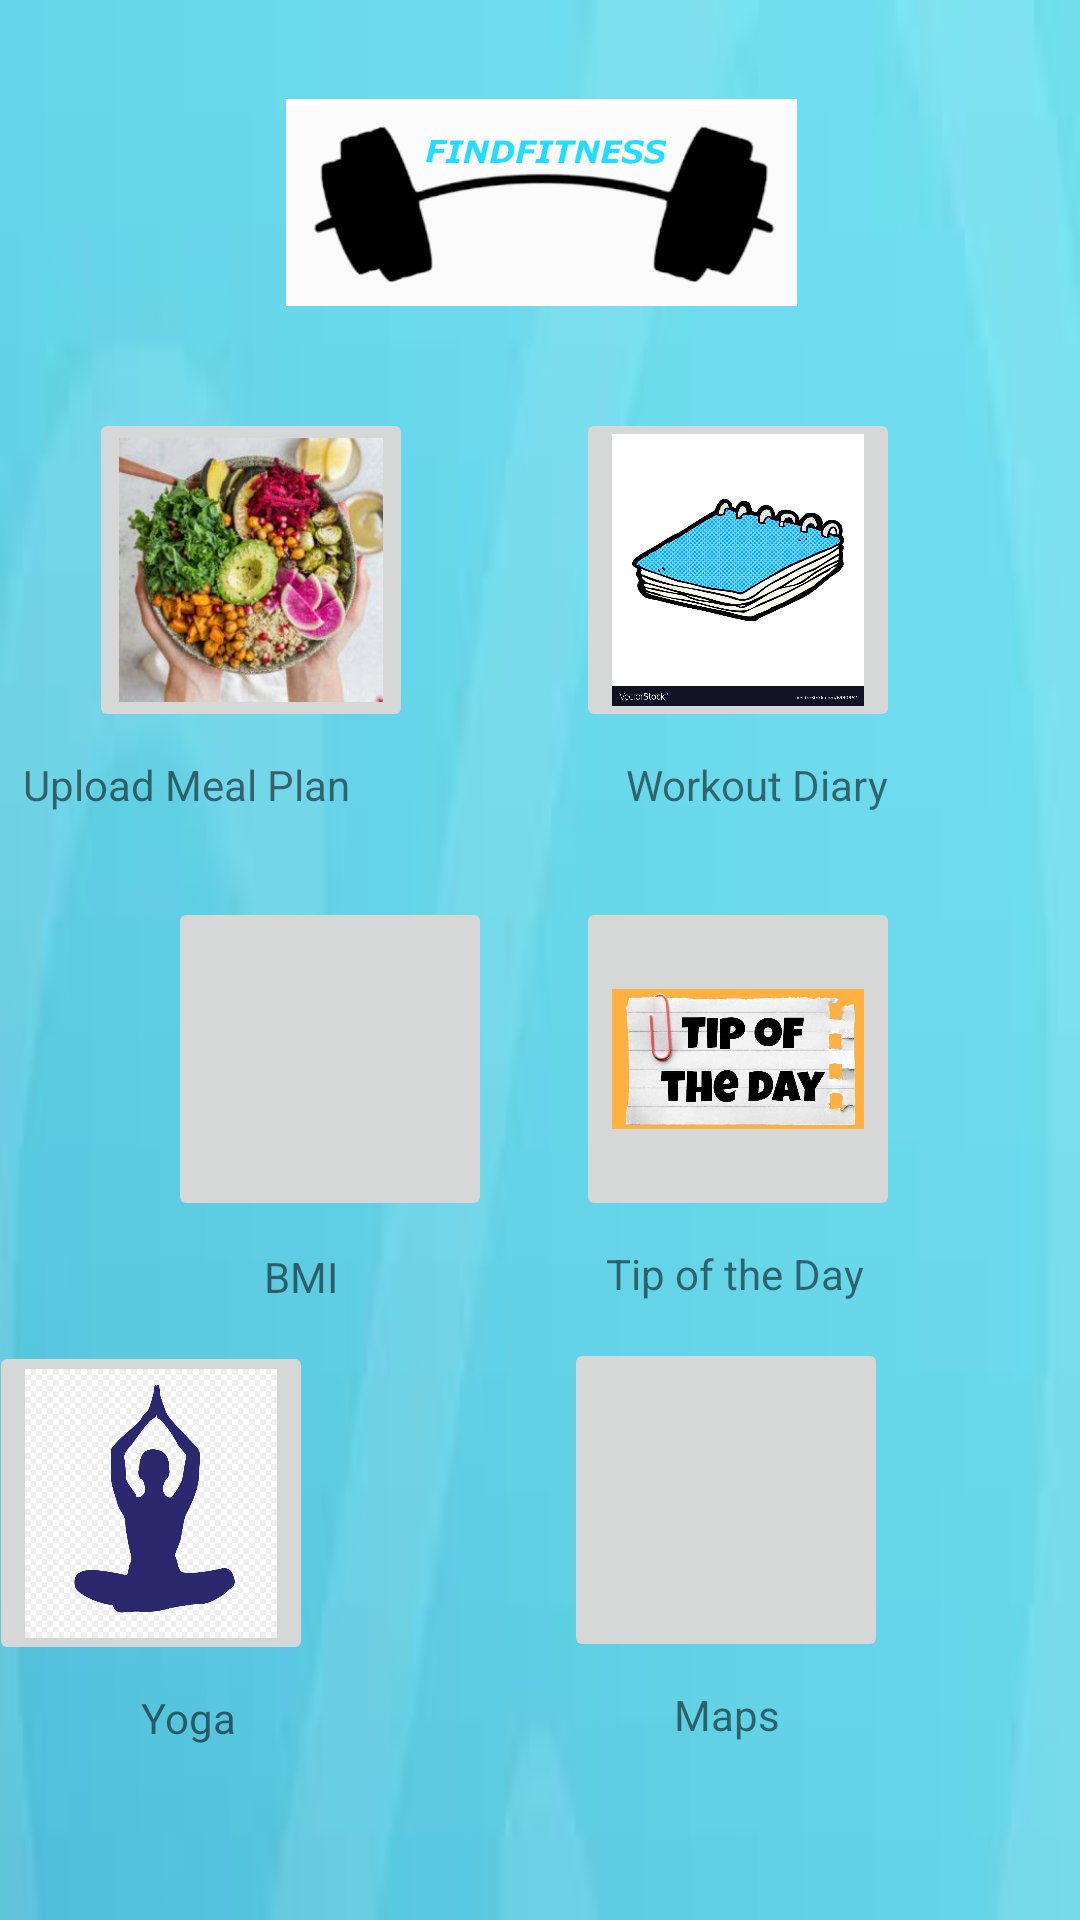

Where icons sit on this 1080w x 1920h app screen, as Rect(x1, y1, x2, y2):
note: Rect(588, 426, 888, 714)
